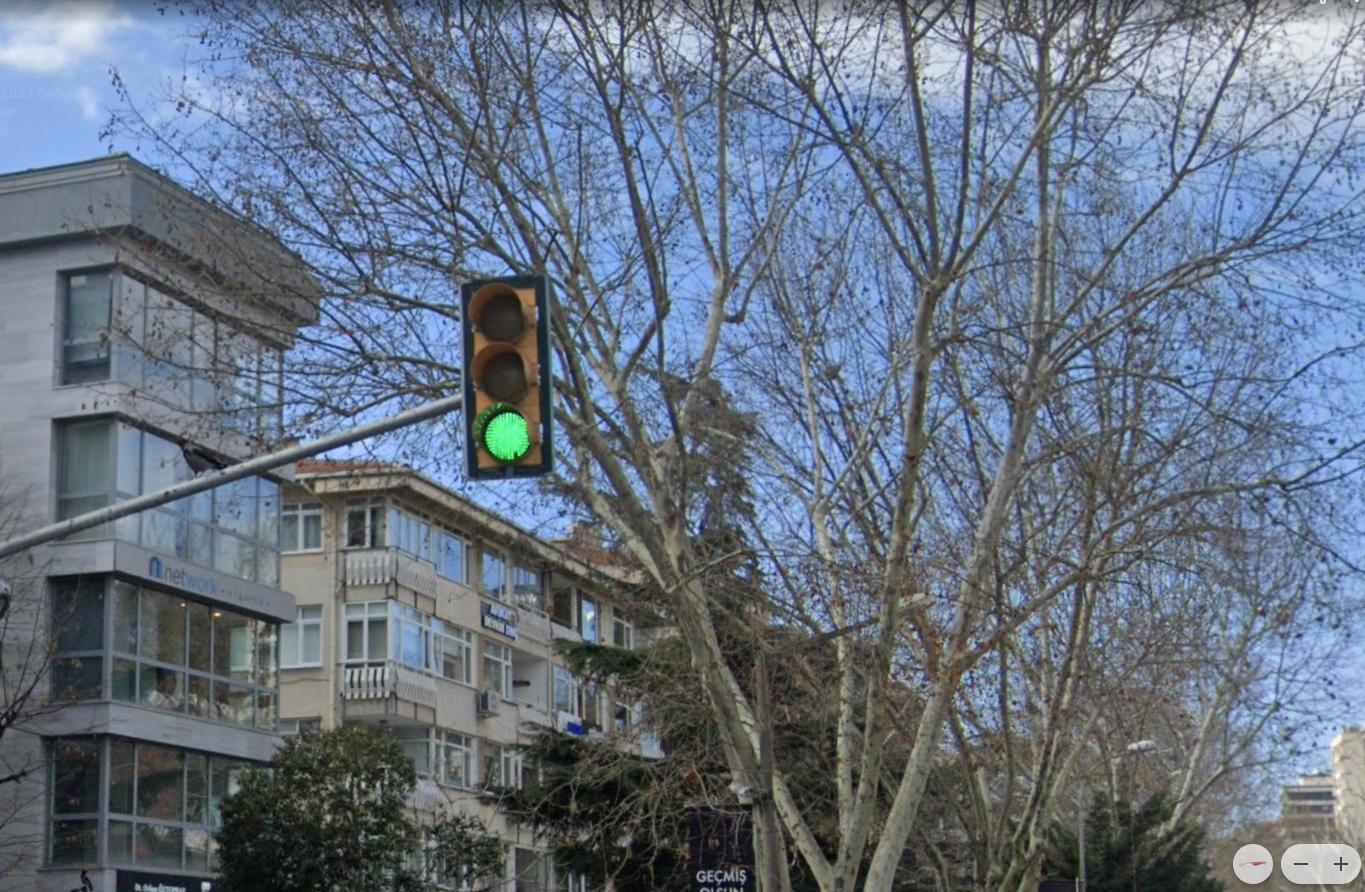greenlight: (464, 276, 544, 475)
